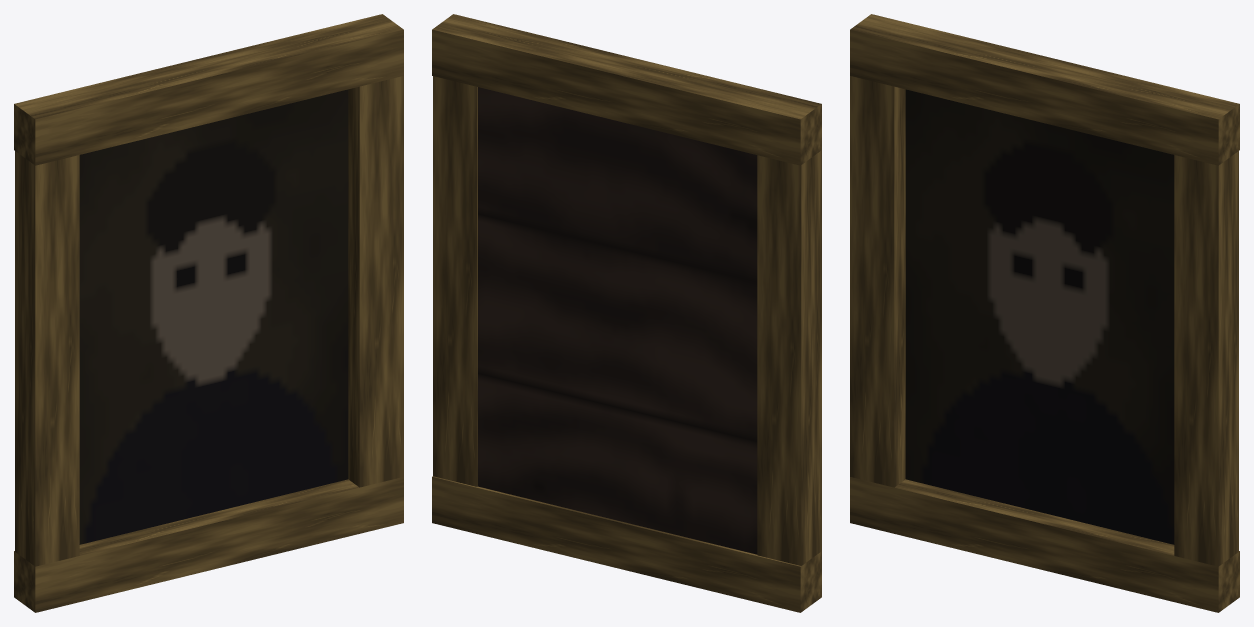
File: PSXH_Frame_Portrait_A.obj
3 renders of one model, left to right at view 1: azimuth 30°, elevation 25°; view 2: azimuth 150°, elevation 25°; view 3: azimuth 330°, elevation 25°, orthographic.
Parts seen in each view (by area): view 1: PSXH_Frame_Portrait_A; view 2: PSXH_Frame_Portrait_A; view 3: PSXH_Frame_Portrait_A.
Part boxes in pixels (bbox=[...]): PSXH_Frame_Portrait_A: bbox=[14, 14, 403, 612]; PSXH_Frame_Portrait_A: bbox=[432, 14, 821, 612]; PSXH_Frame_Portrait_A: bbox=[850, 14, 1239, 612].
Bounding box in the file's own units: 0.5 × 0.64 × 0.05.
Materials: 1 (1 with a texture image).
